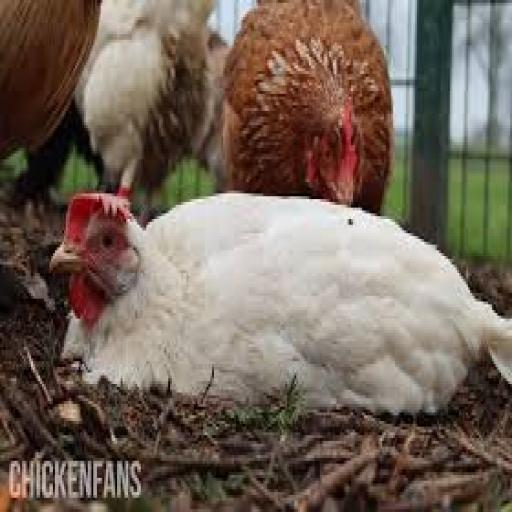healthy: (44, 193, 138, 321), (300, 107, 368, 218)
